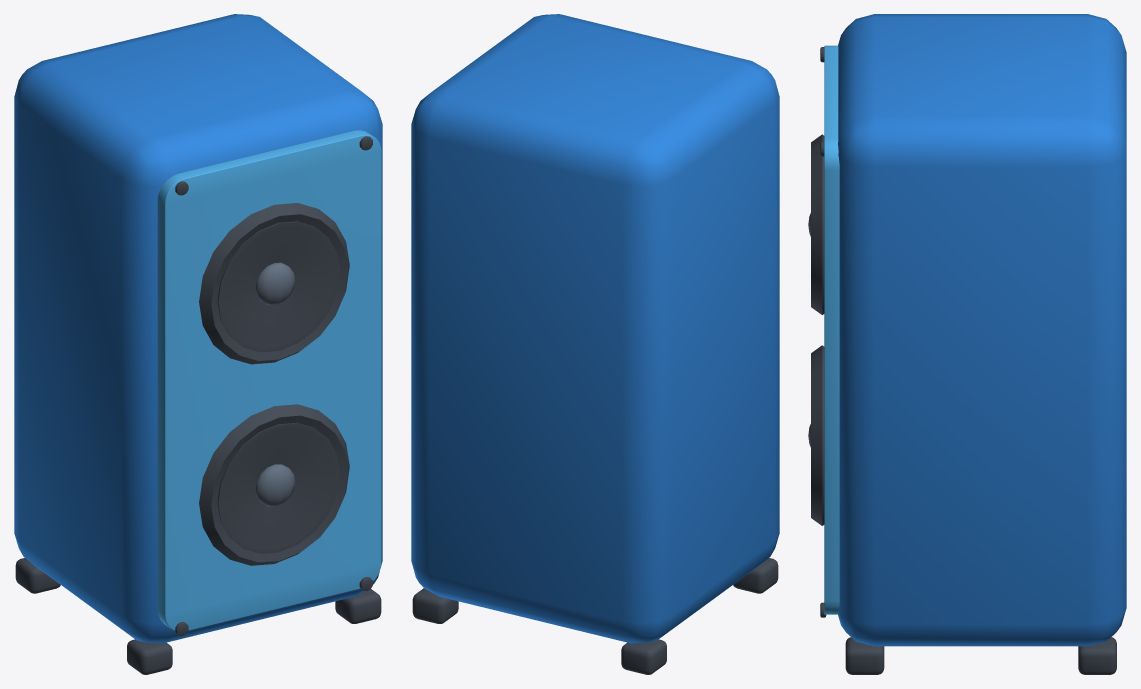
The model's file is caixa_som_torre_azul.glb.
3 views of the same model, side by side, from view 1: azimuth 30°, elevation 25°; view 2: azimuth 150°, elevation 25°; view 3: azimuth 270°, elevation 25° (orthographic). The views are drawn at different scales.
Parts seen in each view (by area): view 1: caixa_som_torre_azul; view 2: caixa_som_torre_azul; view 3: caixa_som_torre_azul.
Part boxes in pixels (x1,y1,x2,y2): caixa_som_torre_azul: [14, 14, 382, 674]; caixa_som_torre_azul: [411, 14, 779, 674]; caixa_som_torre_azul: [808, 14, 1126, 674].
Size of the model in its own units: 0.32 by 0.625 by 0.3284.
1 material, 1 textured.
